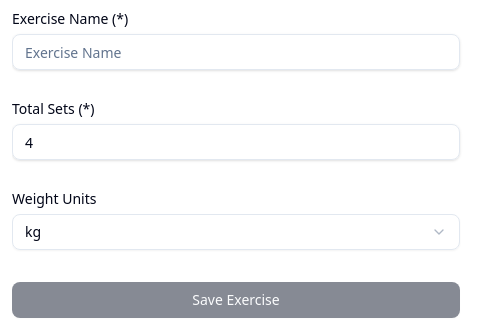
Test: AddExerciseForm › resets form after successful submission
In the field labelled "Exercise Name (*)": (236, 52) [12,34,460,70], type "Barbell Bench Press"
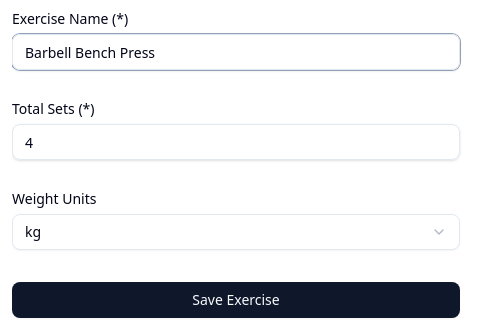
Replace the text in the number field labelled "Total Sets (*)" with "3": (236, 142) [12,124,460,160]
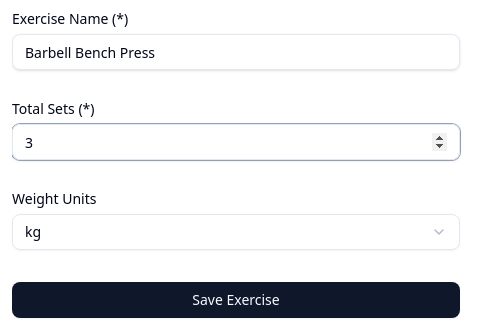
Click the button "Save Exercise": (236, 300) [12,282,460,318]
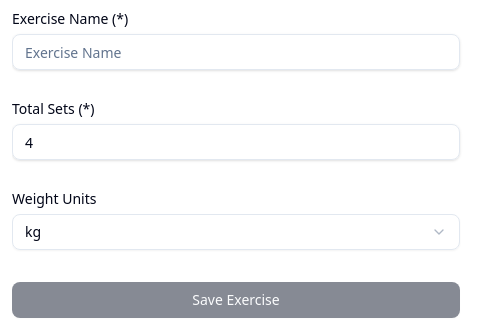
Now the field labelled "Exercise Name (*)" is empty, box [12,34,460,70]
Now the number field labelled "Total Sets (*)" holds "4", box [12,124,460,160]
